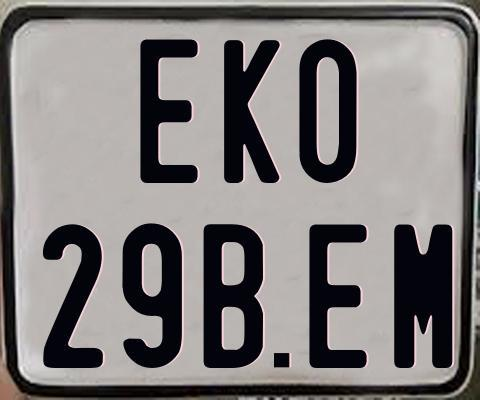0: (297, 37, 355, 185)
2: (43, 224, 107, 371)
9: (122, 220, 188, 365)
B: (202, 223, 265, 372)
E: (309, 222, 373, 371), (139, 37, 203, 183)
K: (221, 37, 283, 185)
M: (391, 222, 449, 372)
